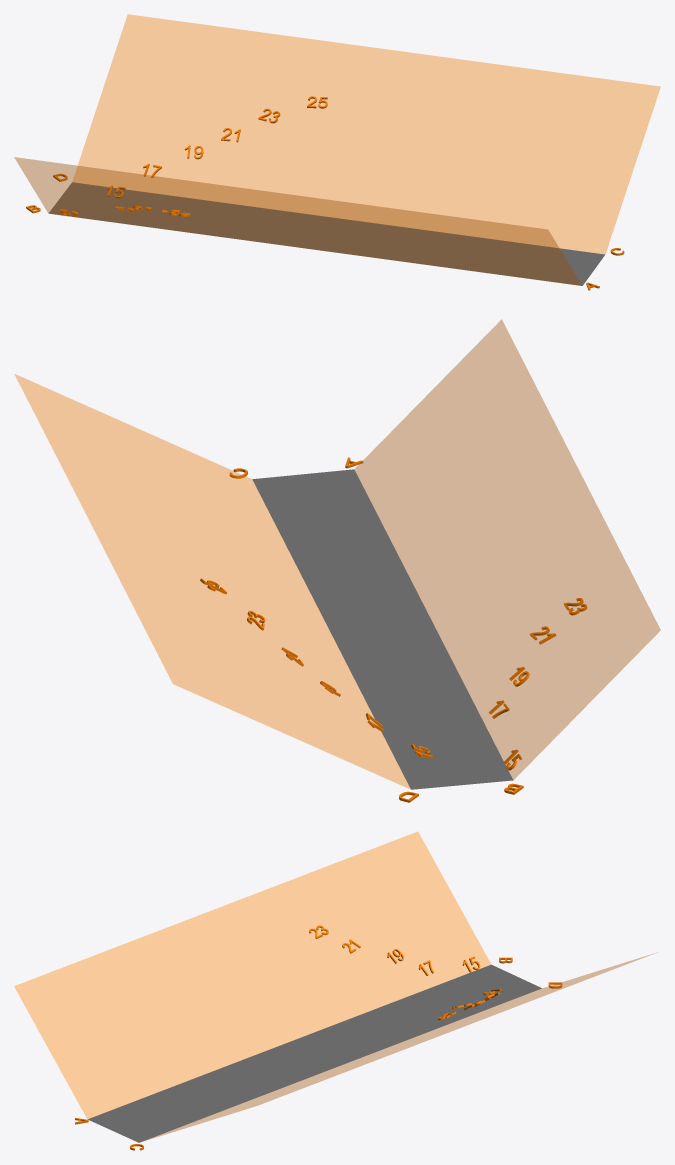
File: curva16a.gltf
The picture shows the model from 3 angles, top to bottom: view 1: azimuth 30°, elevation 25°; view 2: azimuth 150°, elevation 25°; view 3: azimuth 270°, elevation 25°; orthographic projection. The views are drawn at different scales.
Size of the model in its own units: 1835 by 316 by 1874.
